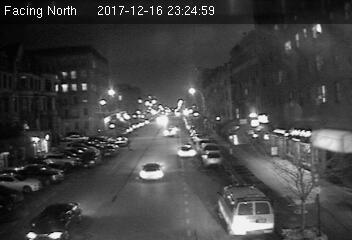car: (22, 202, 86, 240), (138, 162, 166, 182), (201, 150, 223, 166), (176, 144, 197, 159)
police: (219, 180, 275, 234)
